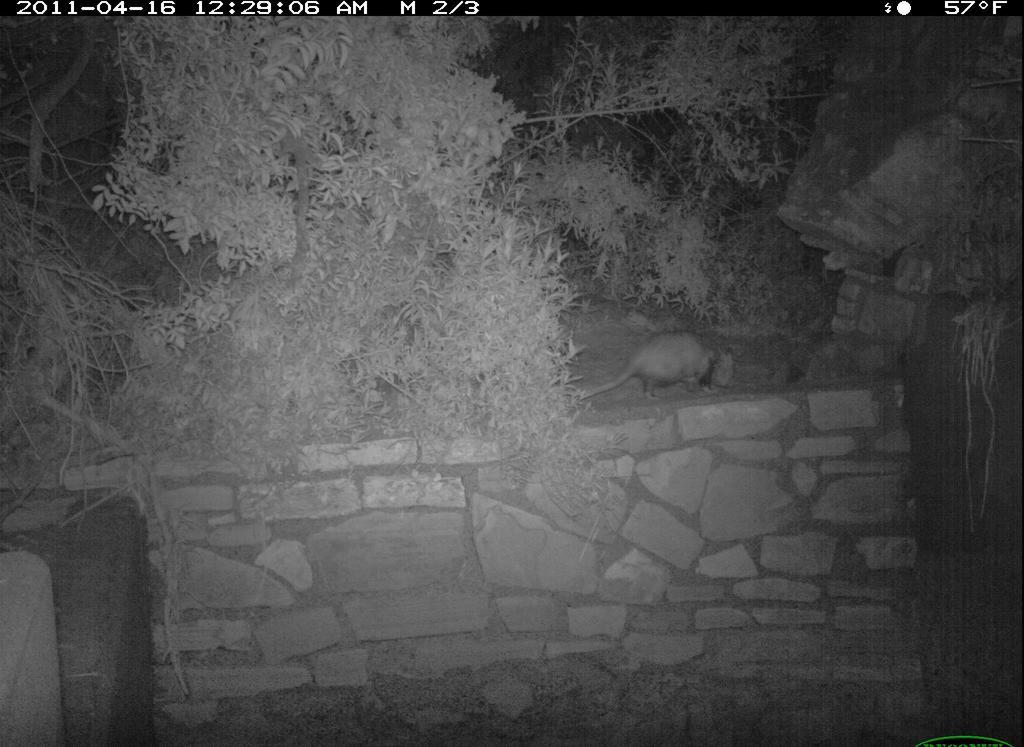opossum: (561, 324, 747, 413)
